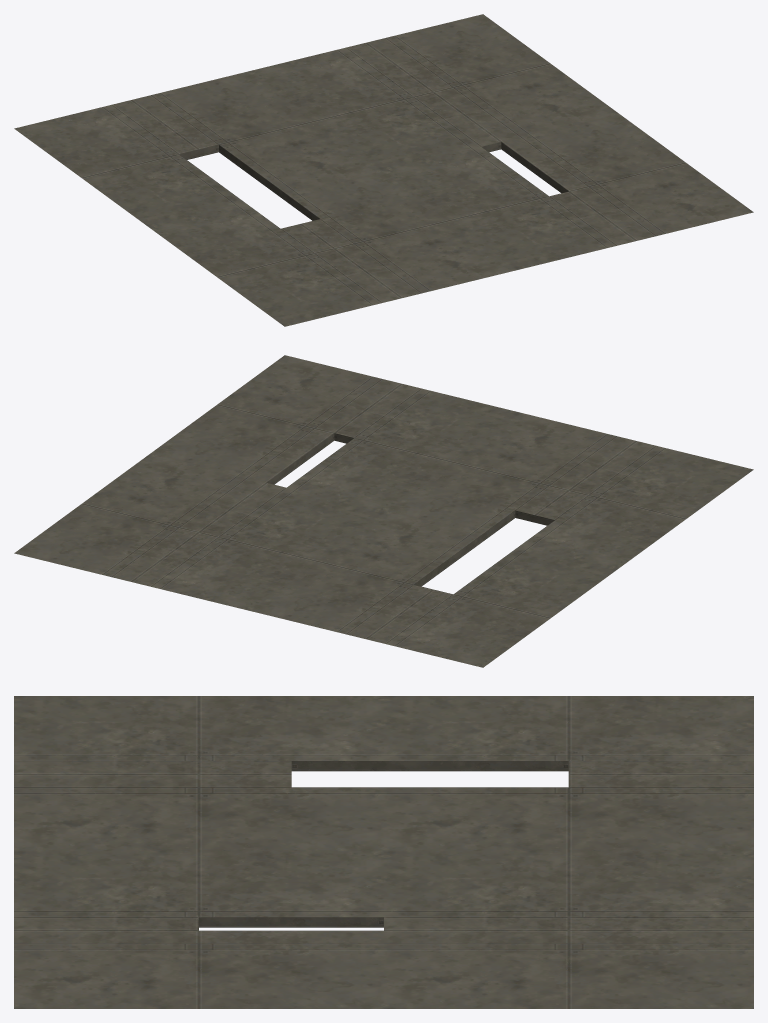
File: lab_floor_broken02.dae
3 renders of one model, top to bottom at view 1: azimuth 30°, elevation 25°; view 2: azimuth 150°, elevation 25°; view 3: azimuth 270°, elevation 25°, orthographic. The views are drawn at different scales.
Visible parts, largest first — view 1: pPlane2; view 2: pPlane2; view 3: pPlane2.
Part boxes in pixels (<box>): pPlane2: <box>14,14,753,326</box>; pPlane2: <box>14,355,753,667</box>; pPlane2: <box>14,696,753,1008</box>.
Bounding box in the file's own units: 4 × 0.0608 × 4.
